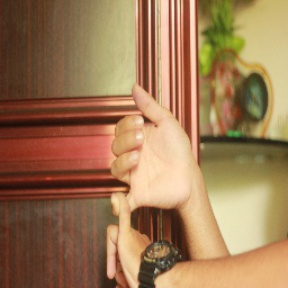S: (98, 83, 197, 288)
